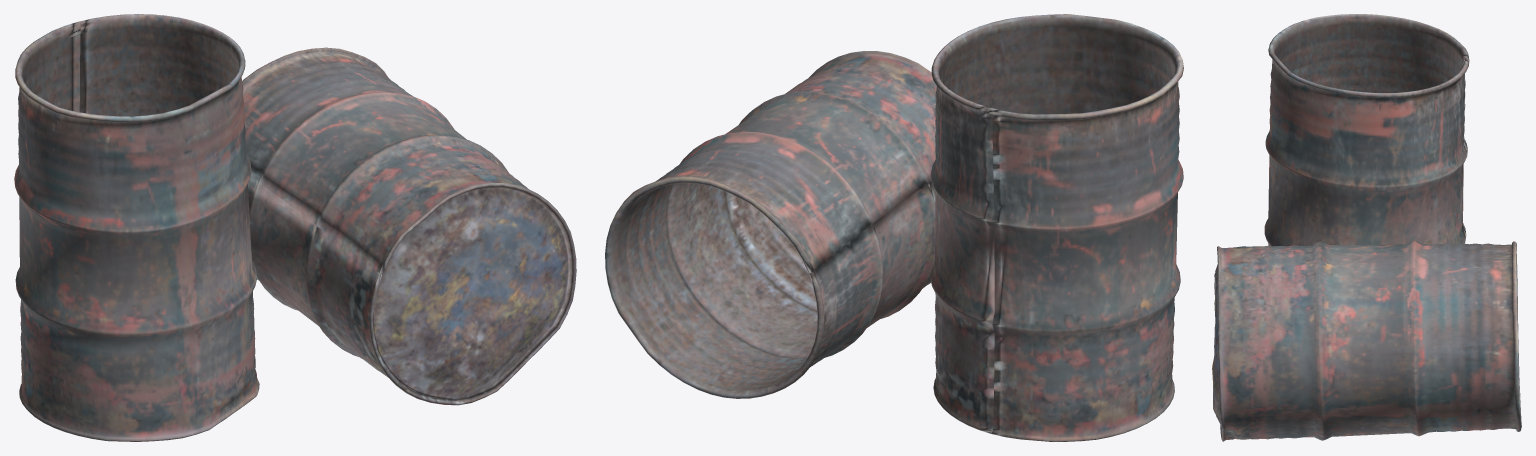
Rendered from old-tin-barrel-20f1eb.glb.
3 renders of one model, left to right at view 1: azimuth 30°, elevation 25°; view 2: azimuth 150°, elevation 25°; view 3: azimuth 270°, elevation 25°, orthographic. The views are drawn at different scales.
Visible parts, largest first — view 1: PropMesh; view 2: PropMesh; view 3: PropMesh.
Part boxes in pixels (x1,y1,x2,y2): PropMesh: (14,14,576,441); PropMesh: (605,14,1183,441); PropMesh: (1212,14,1521,441).
Bounding box in the file's own units: 1.29 × 0.9 × 0.8969.
Materials: 1 (1 with a texture image).
